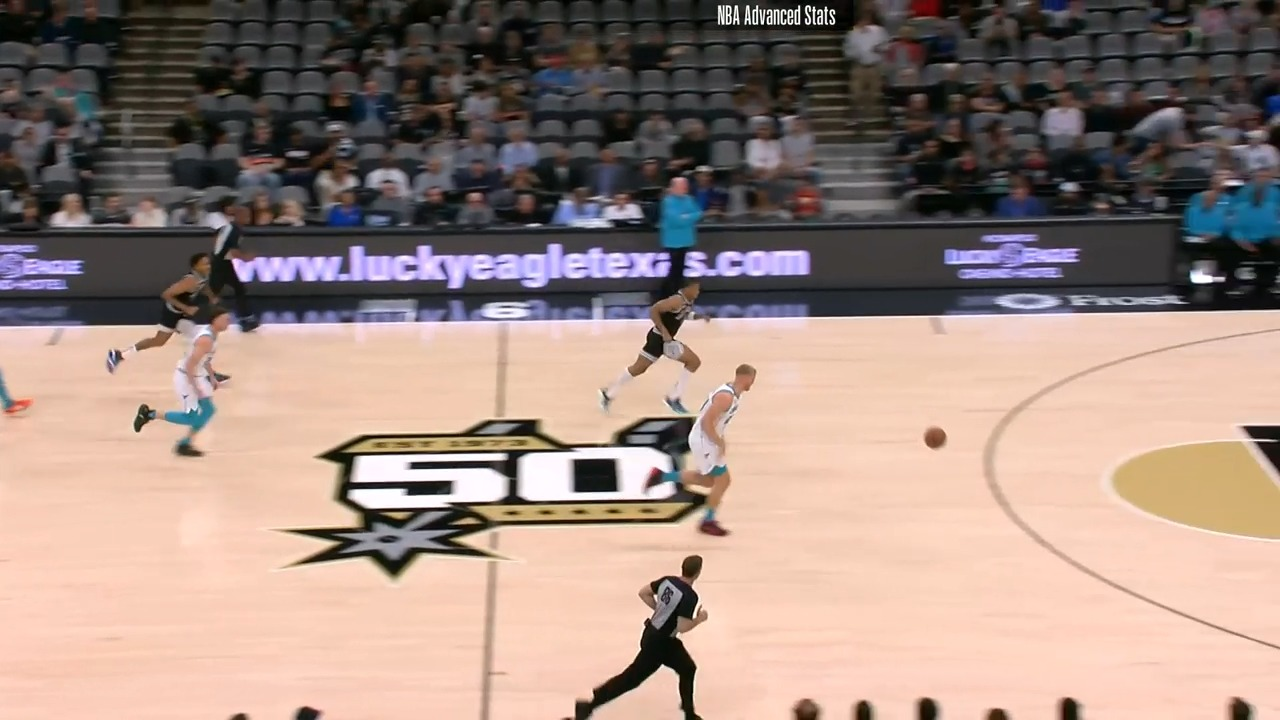player: (640, 364, 762, 545), (125, 297, 241, 463), (592, 274, 706, 420), (105, 253, 223, 383), (0, 244, 32, 425)
referee: (581, 551, 724, 718), (202, 195, 269, 340)
